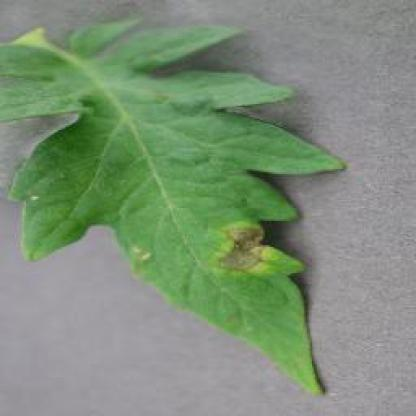bad leaf: (204, 214, 302, 289), (116, 228, 158, 270)
